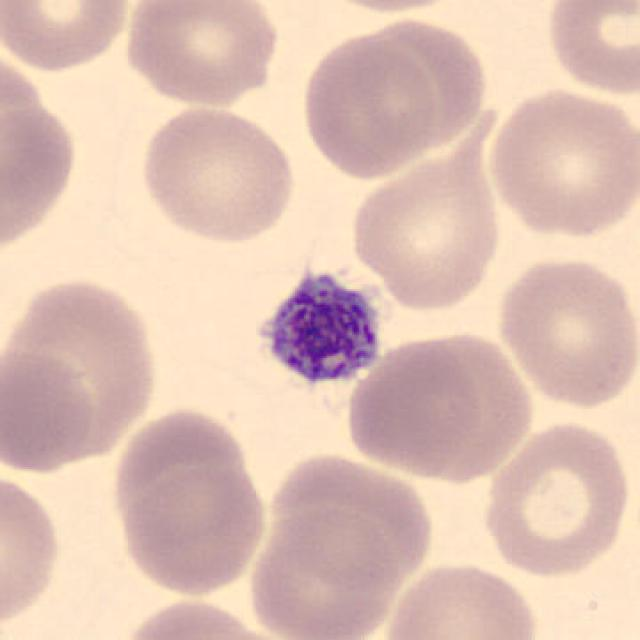platelets: (265, 266, 383, 396)
rbc: (138, 100, 312, 250), (354, 154, 504, 316), (492, 77, 635, 245), (275, 447, 435, 587), (14, 290, 162, 440), (499, 253, 638, 409), (109, 399, 258, 542), (249, 504, 402, 640), (495, 417, 628, 570), (122, 463, 271, 597), (301, 36, 441, 174), (413, 324, 534, 475), (124, 0, 288, 111), (352, 22, 487, 148), (353, 342, 481, 472), (0, 61, 77, 244), (0, 337, 96, 474), (0, 464, 64, 635), (399, 563, 538, 640), (542, 0, 640, 97), (0, 0, 130, 69), (128, 596, 259, 640), (345, 0, 448, 18)
